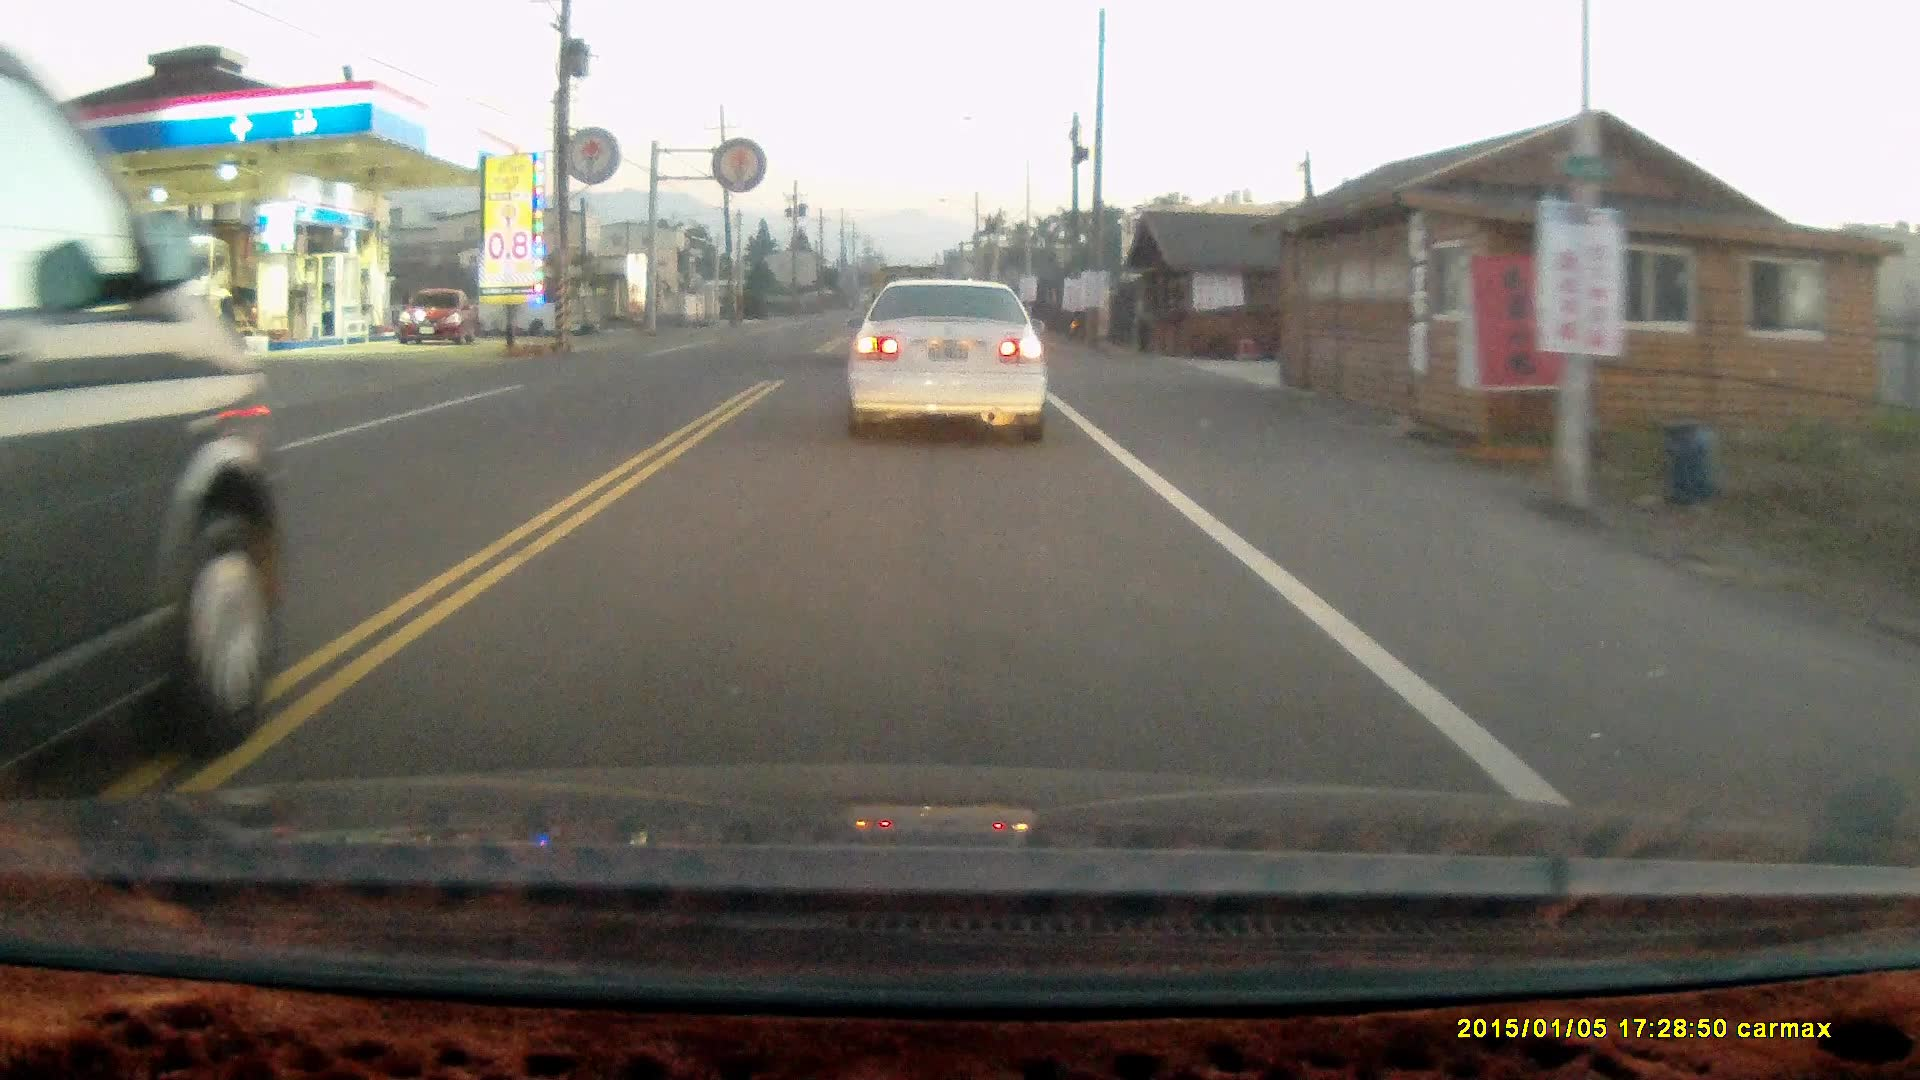vehicle: (1, 65, 278, 790), (845, 280, 1054, 456), (396, 291, 477, 345)
